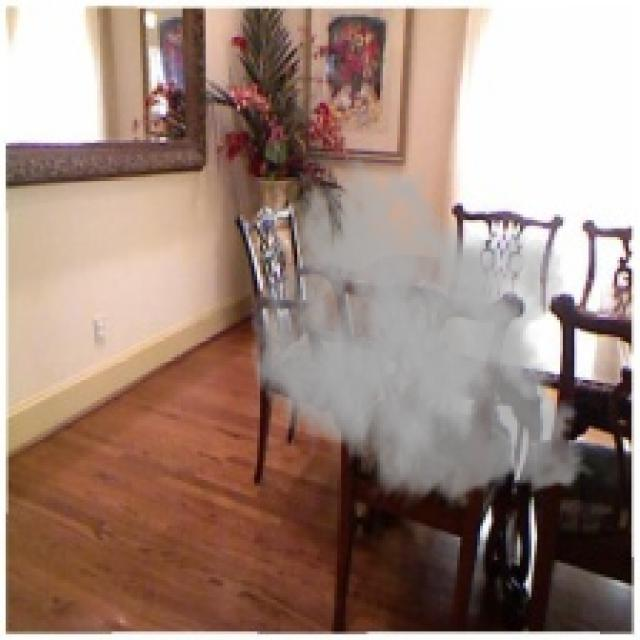smoke: (249, 154, 600, 512)
